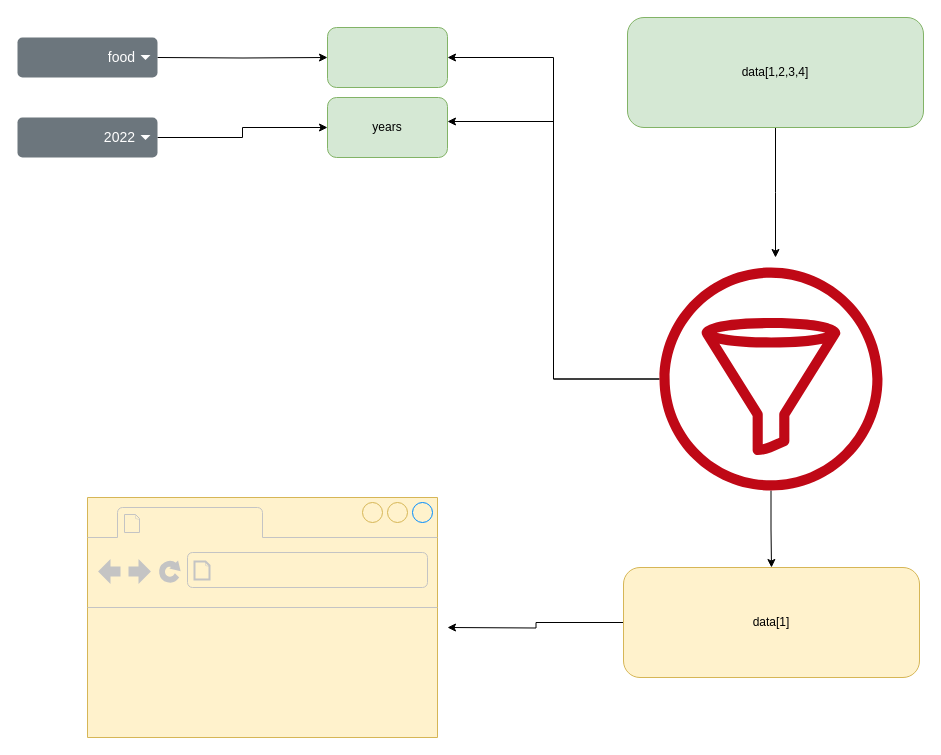
This 941x755 diagram has some shape labels left out. The centre of each missing label's shape, as x and y in pixels:
"category" goes at (387,57).
"https://www.draw.io" goes at (342,570).
"Page 1" goes at (202,522).
